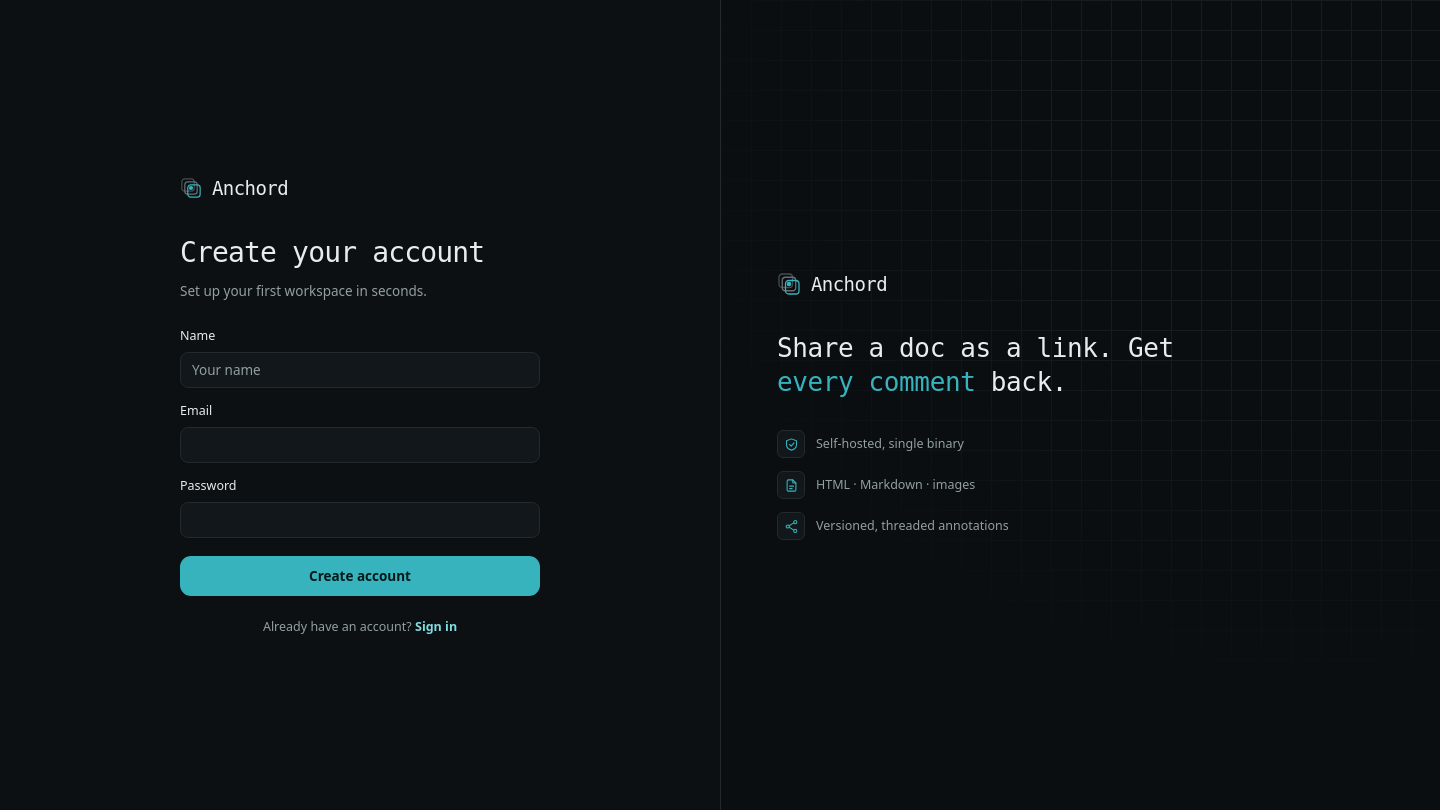
Scenario: auth-ui S-001 — sign up and verify email › AS-005: signing up with an already-registered email shows 'email already in use' and stays on sign-up
Type "Ada Lovelace" into the field labelled "Name".
click(360, 370); type("Ada Lovelace")  # box [180,352,540,388]
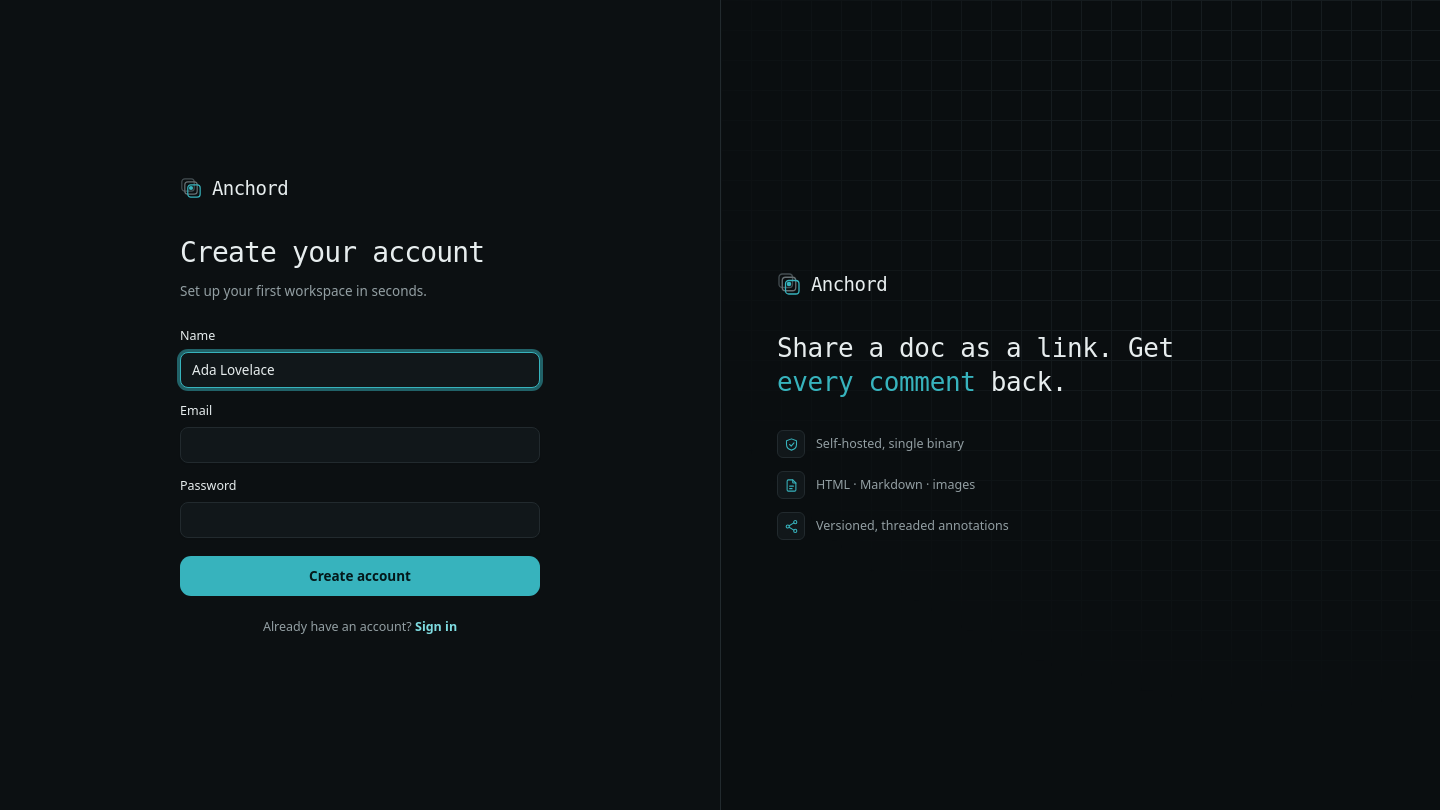
Type "taken@acme.com" into the field labelled "Email".
click(360, 445); type("taken@acme.com")  # box [180,427,540,463]
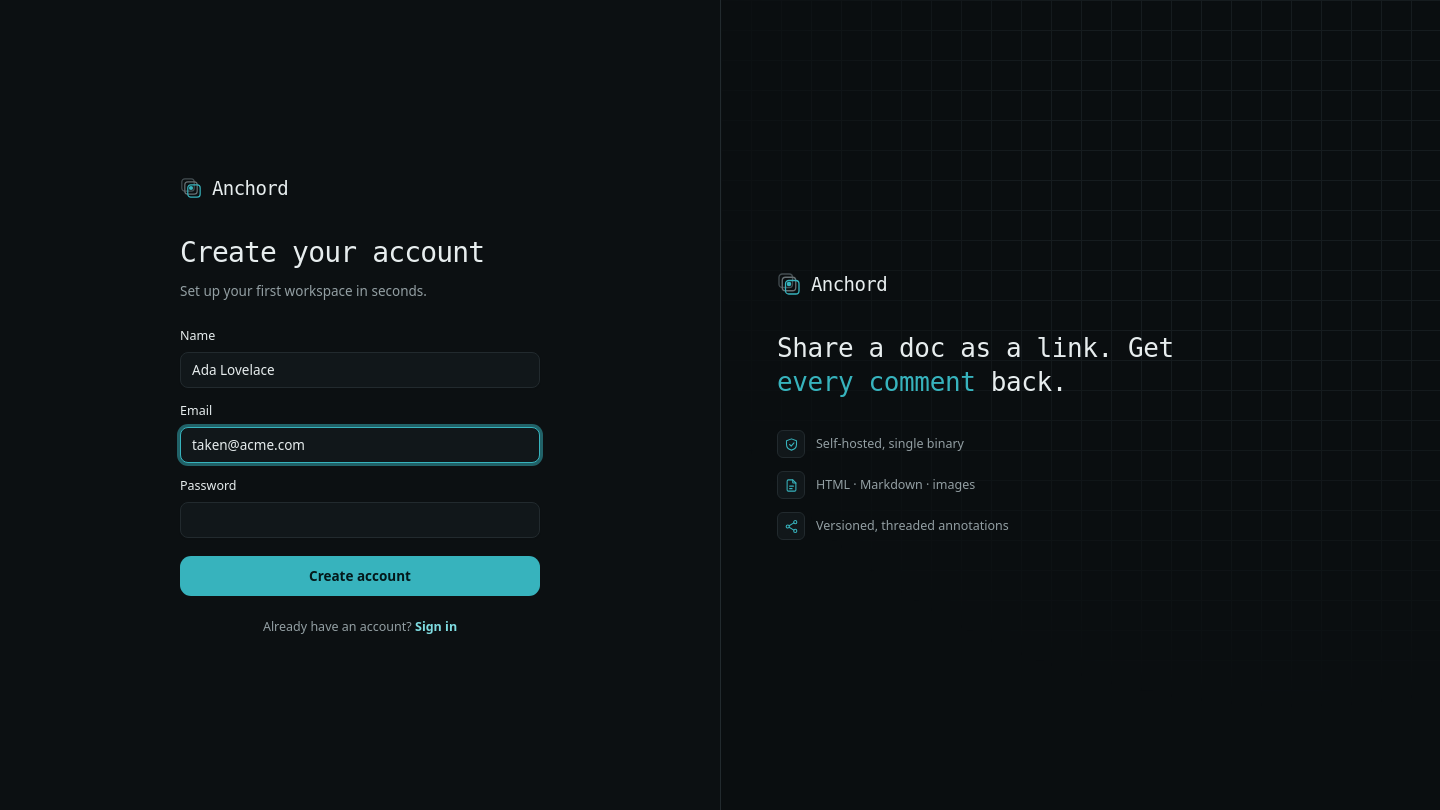
Type "longenough" into the password field labelled "Password".
click(360, 520); type("longenough")  # box [180,502,540,538]
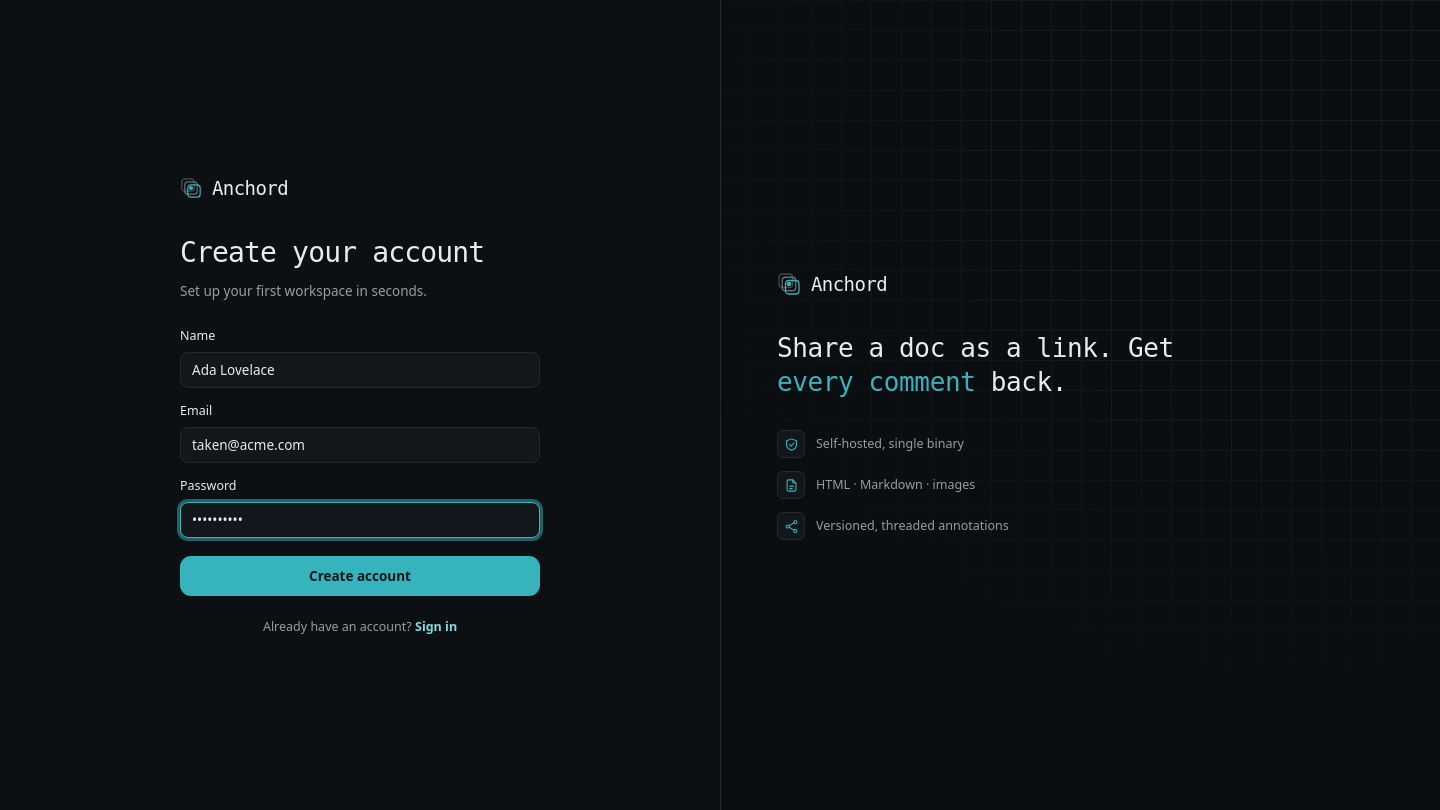
Click the button "Create account".
click(360, 576)  # box [180,556,540,596]
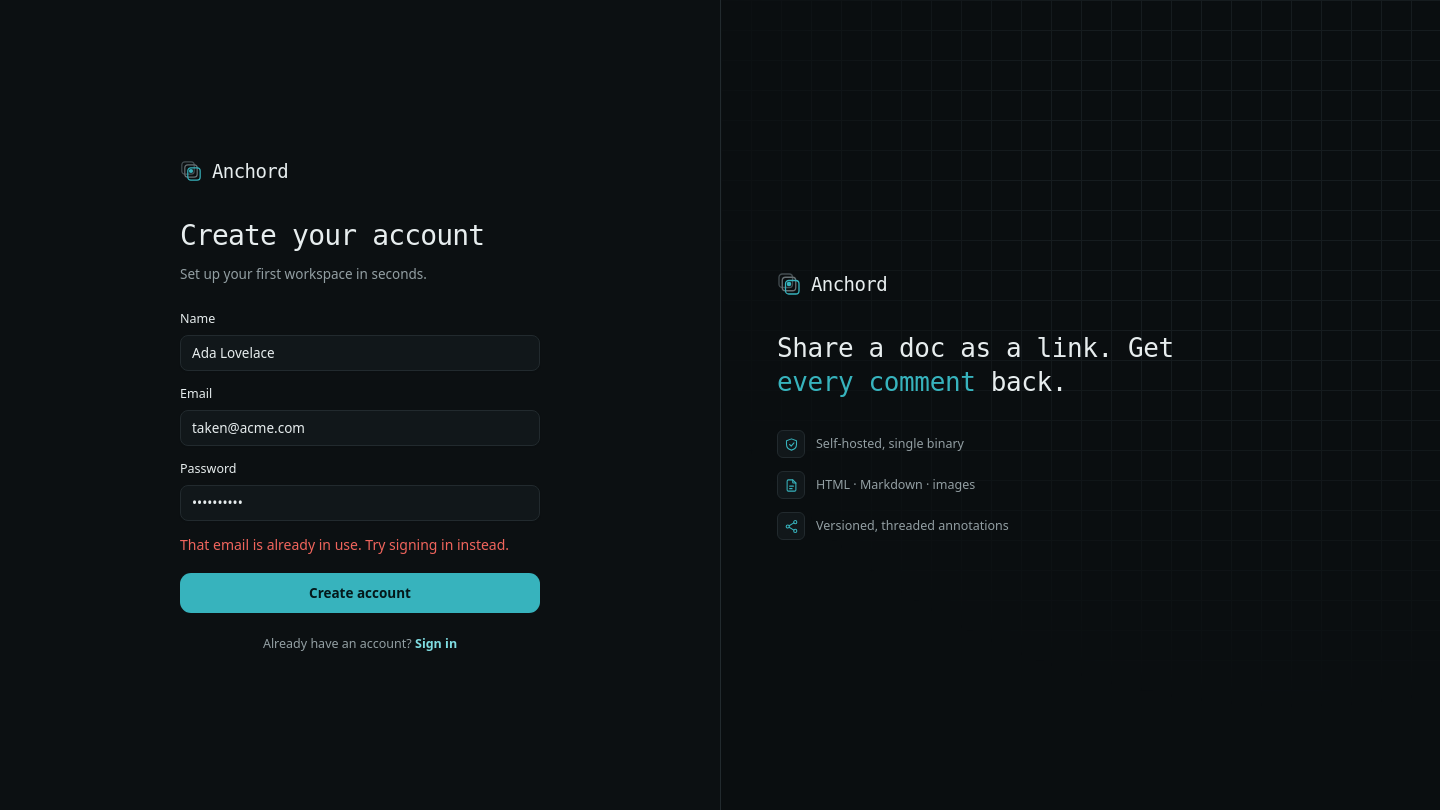
Expected: the button "Create account" is shown, [180,573,540,613]
Expected: the text "That email is already in use. Try signing in instead." is shown, [180,535,540,555]
